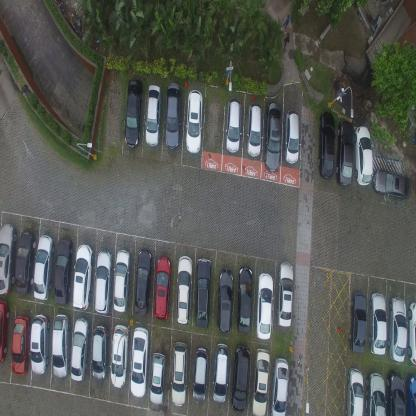car: (32, 234, 55, 302), (122, 77, 144, 148), (71, 244, 93, 312), (250, 345, 271, 415), (14, 230, 36, 296), (53, 239, 74, 308), (129, 327, 149, 399), (230, 343, 250, 413), (373, 167, 412, 202), (387, 296, 407, 364), (317, 108, 336, 179), (0, 223, 18, 297), (152, 254, 172, 320), (70, 316, 90, 382), (193, 257, 211, 329), (336, 118, 355, 186), (30, 311, 50, 375), (133, 249, 152, 316), (174, 254, 192, 324), (11, 314, 31, 376), (94, 250, 113, 315), (110, 324, 129, 389), (112, 249, 131, 314), (264, 100, 281, 172), (256, 273, 274, 341), (368, 292, 387, 356), (184, 88, 202, 155), (215, 268, 233, 335), (269, 356, 289, 416), (52, 312, 70, 378), (163, 82, 180, 150), (354, 124, 372, 188), (348, 291, 366, 354), (277, 258, 293, 328), (145, 82, 162, 147), (236, 265, 252, 334), (91, 324, 110, 382), (170, 341, 186, 408), (211, 343, 228, 406), (224, 96, 242, 152), (191, 347, 208, 406), (283, 108, 301, 162), (384, 370, 405, 416), (148, 350, 165, 406), (344, 366, 363, 415), (246, 101, 262, 156), (365, 372, 385, 415), (406, 300, 416, 366), (0, 298, 10, 363), (406, 372, 416, 416)
